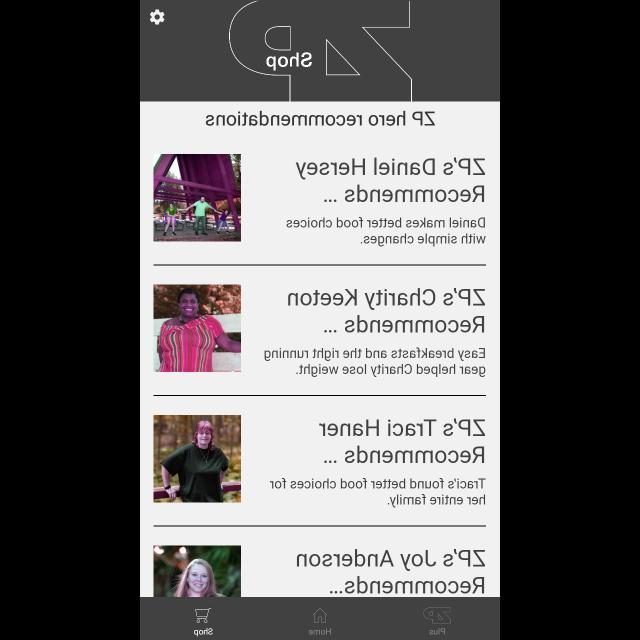icon: (150, 10, 164, 26), (313, 608, 327, 624), (196, 608, 212, 622)
image: (229, 0, 411, 101), (154, 284, 240, 372), (154, 154, 240, 242), (154, 416, 240, 502), (154, 546, 240, 596), (424, 608, 451, 624)
text: (288, 288, 484, 334), (297, 550, 485, 594), (296, 158, 484, 202), (319, 418, 485, 464), (264, 347, 486, 377), (270, 478, 486, 508), (286, 217, 486, 247), (206, 112, 434, 126), (266, 52, 312, 72), (194, 628, 213, 636), (309, 629, 331, 635), (430, 628, 444, 634)
